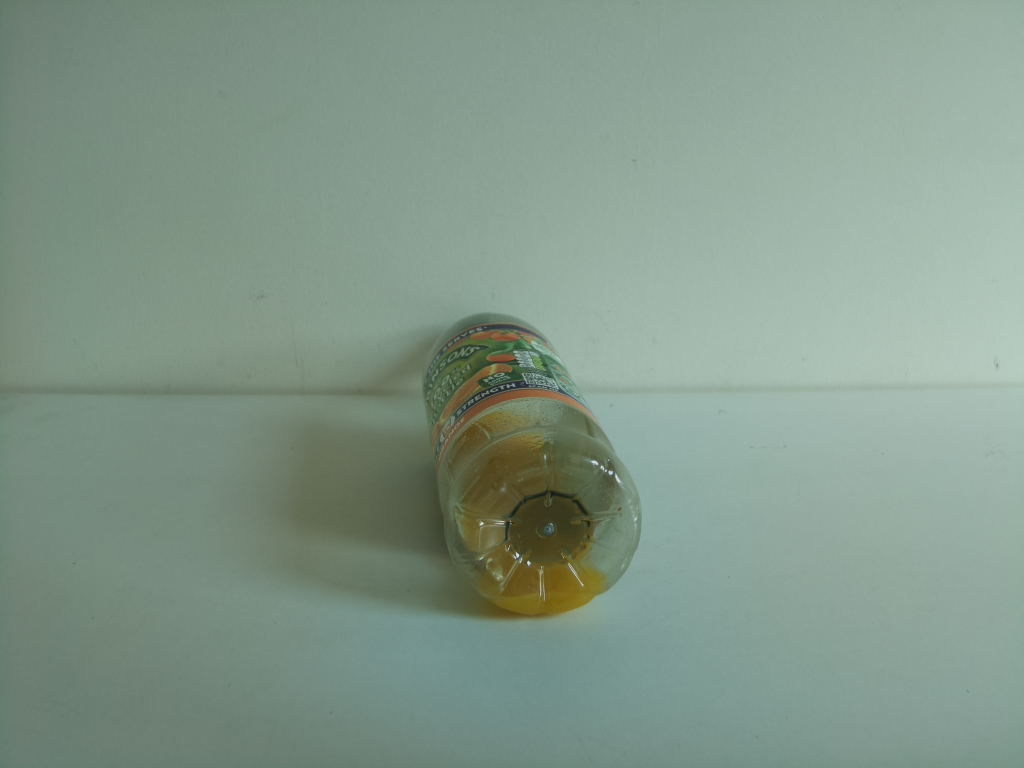juice: (419, 305, 656, 617)
